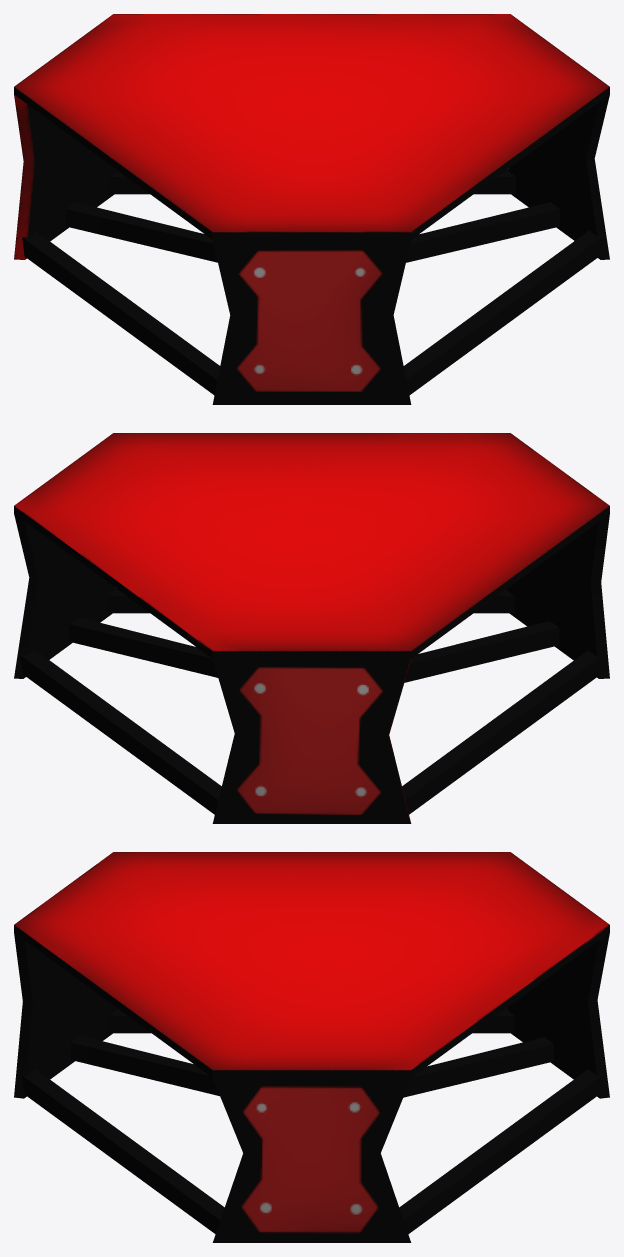
The model's file is Picnic_Table.fbx.
3 views of the same model, one above another, from view 1: azimuth 30°, elevation 25°; view 2: azimuth 150°, elevation 25°; view 3: azimuth 270°, elevation 25° (orthographic).
Visible parts, largest first — view 1: Picnic_Table; view 2: Picnic_Table; view 3: Picnic_Table.
Boxes of the visible parts, x1,y1,x2,y2 form: Picnic_Table: [14, 14, 609, 404]; Picnic_Table: [14, 433, 609, 823]; Picnic_Table: [14, 852, 609, 1242].
Size of the model in its own units: 182 by 67.25 by 210.
1 material, 1 textured.
